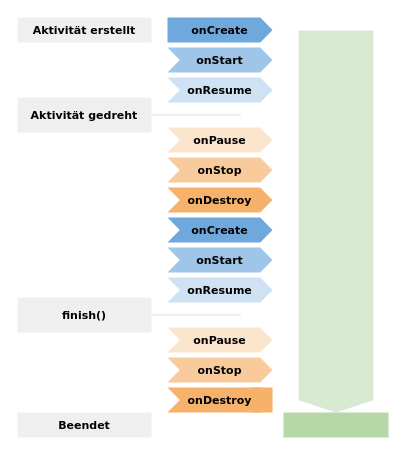
This 405x454 diagram has some shape labels left out. The shapes that lost their labels are listed below. From the top down, each one's centre as x and y in pixels, then its label:
the point at 335,221: ViewModel Geltungs-bereich
the point at 335,424: onCleared()
